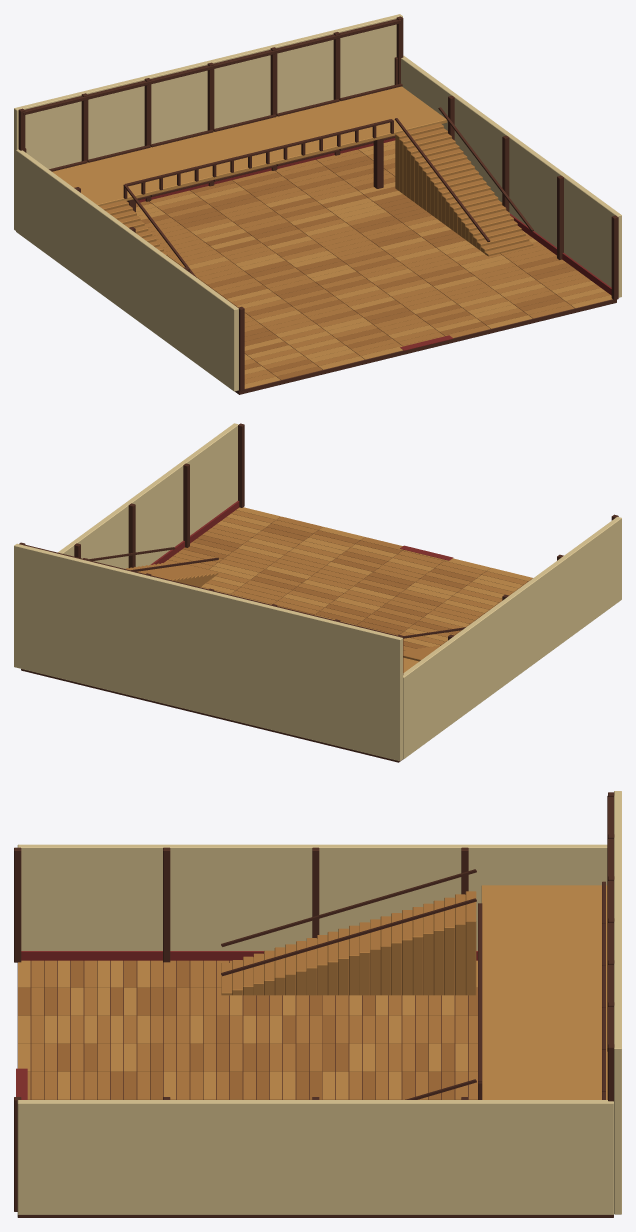
Rendered from SM_Guild_Architecture_Roomy.fbx.
3 renders of one model, top to bottom at view 1: azimuth 30°, elevation 25°; view 2: azimuth 150°, elevation 25°; view 3: azimuth 270°, elevation 25°, orthographic. The views are drawn at different scales.
Parts seen in each view (by area): view 1: RearWall, SideWall, UpperGallery, SideWall.001, RearTie.001, FloorSupport, GalleryRailTop, WallSkirting.001, RearSkirting, WallPost.005, WallPost.006, Stair_1_23 (+7 smaller); view 2: RearWall, SideWall, SideWall.001, FloorSupport, WallSkirting.001, RearTie.001, WallPost.005, WallPost.006, WallPost.007; view 3: SideWall.001, SideWall, UpperGallery, FloorSupport, RearWall, WallSkirting, RearTie.001, Stair_-1_23, Stair_-1_20, Stair_-1_22, Stair_-1_21, Stair_-1_18 (+15 smaller).
Boxes of the visible parts, left/top/right/bottom form: RearWall: left=14, top=14, right=402, bottom=230; SideWall: left=16, top=149, right=238, bottom=391; UpperGallery: left=52, top=86, right=447, bottom=206; SideWall.001: left=401, top=55, right=621, bottom=297; RearTie.001: left=23, top=19, right=401, bottom=115; FloorSupport: left=153, top=153, right=616, bottom=394; GalleryRailTop: left=125, top=119, right=392, bottom=186; WallSkirting.001: left=510, top=213, right=611, bottom=295; RearSkirting: left=136, top=138, right=395, bottom=203; WallPost.005: left=611, top=215, right=618, bottom=300; WallPost.006: left=557, top=175, right=563, bottom=259; Stair_1_23: left=395, top=123, right=443, bottom=190; RearWall: left=14, top=543, right=402, bottom=761; SideWall: left=403, top=517, right=621, bottom=759; SideWall.001: left=58, top=423, right=238, bottom=568; FloorSupport: left=21, top=523, right=528, bottom=762; WallSkirting.001: left=151, top=501, right=239, bottom=564; RearTie.001: left=24, top=544, right=397, bottom=636; WallPost.005: left=238, top=423, right=244, bottom=507; WallPost.006: left=183, top=463, right=189, bottom=547; WallPost.007: left=128, top=503, right=135, bottom=568; SideWall.001: left=17, top=1100, right=613, bottom=1214; SideWall: left=17, top=844, right=607, bottom=950; UpperGallery: left=481, top=885, right=607, bottom=1099; FloorSupport: left=17, top=961, right=613, bottom=1217; RearWall: left=614, top=791, right=621, bottom=1214; WallSkirting: left=21, top=951, right=477, bottom=960; RearTie.001: left=607, top=796, right=613, bottom=1051; Stair_-1_23: left=465, top=891, right=476, bottom=995; Stair_-1_20: left=433, top=900, right=444, bottom=995; Stair_-1_22: left=455, top=894, right=465, bottom=995; Stair_-1_21: left=444, top=897, right=454, bottom=995; Stair_-1_18: left=412, top=907, right=423, bottom=995.
Bounding box in the file's own units: 2669 × 2651 × 830.
